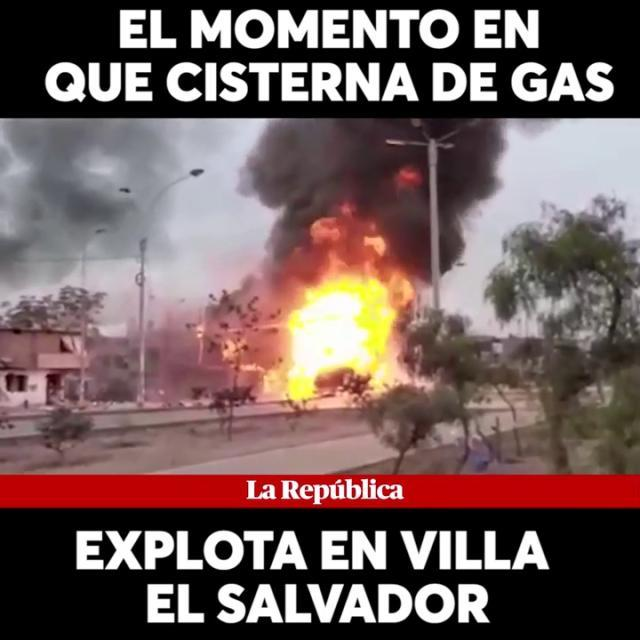Fire: (255, 235, 417, 406)
Smoke: (224, 118, 522, 270), (0, 118, 199, 299)
